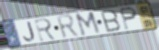B: (99, 9, 122, 34)
J: (22, 21, 36, 43)
M: (74, 10, 103, 38)
P: (119, 6, 138, 32)
R: (55, 13, 81, 41), (33, 17, 58, 43)
